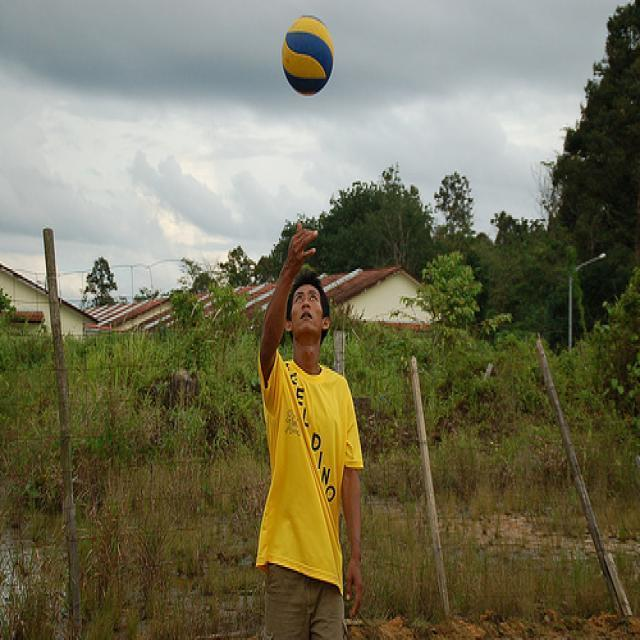volleyball: (282, 15, 334, 97)
